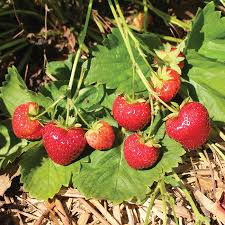Fresa: (164, 100, 214, 154), (41, 117, 89, 169), (110, 91, 154, 135), (122, 130, 161, 172), (11, 100, 47, 144), (85, 118, 117, 153)
